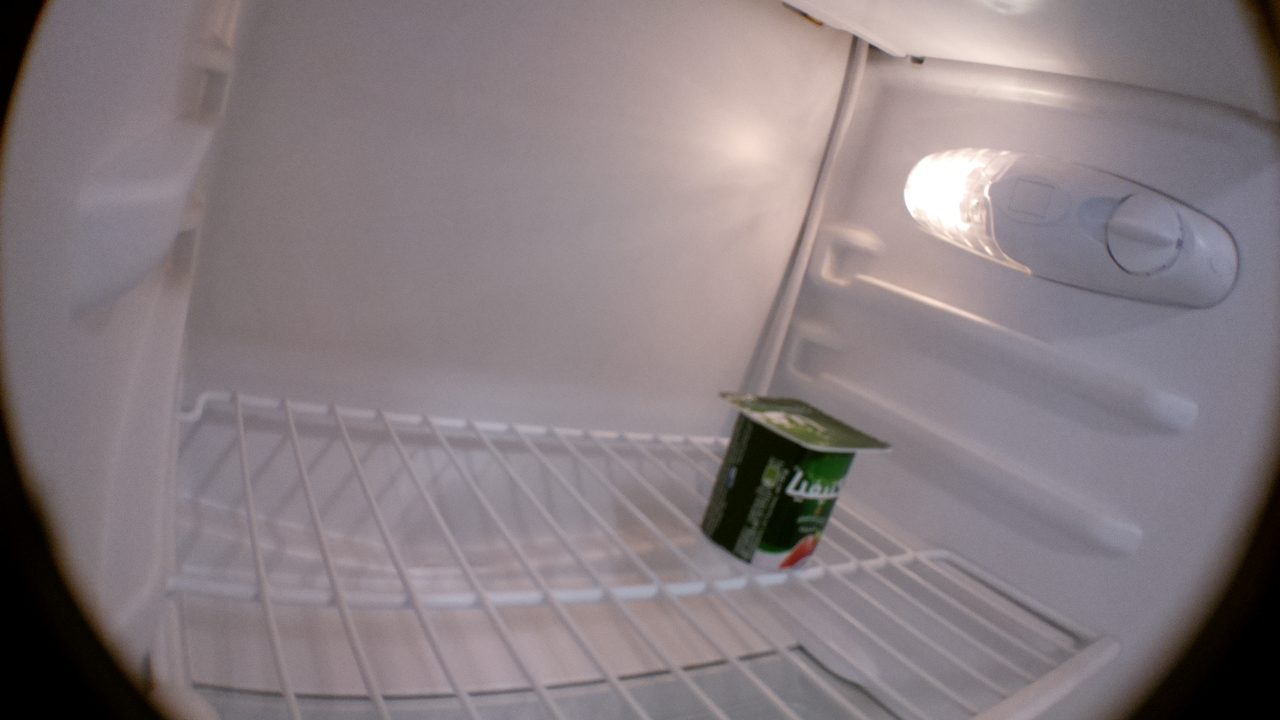yoghurt: (698, 388, 899, 573)
